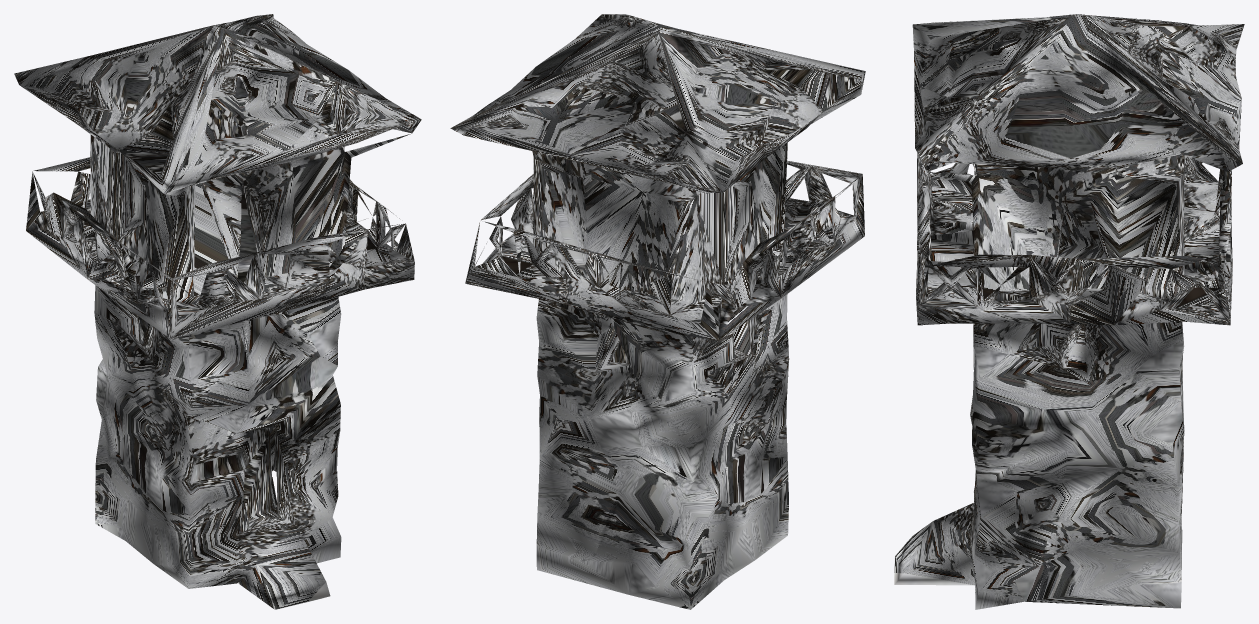
Rendered from gt_limes.glb.
The picture shows the model from 3 angles, left to right: view 1: azimuth 30°, elevation 25°; view 2: azimuth 150°, elevation 25°; view 3: azimuth 270°, elevation 25°; orthographic projection. The views are drawn at different scales.
Visible parts, largest first — view 1: gt_limes; view 2: gt_limes; view 3: gt_limes.
Part boxes in pixels (x1,y1,x2,y2): gt_limes: (14, 14, 421, 609); gt_limes: (450, 14, 865, 609); gt_limes: (894, 14, 1244, 609).
Size of the model in its own units: 1.01 by 1.9 by 1.09.
1 material, 1 textured.
